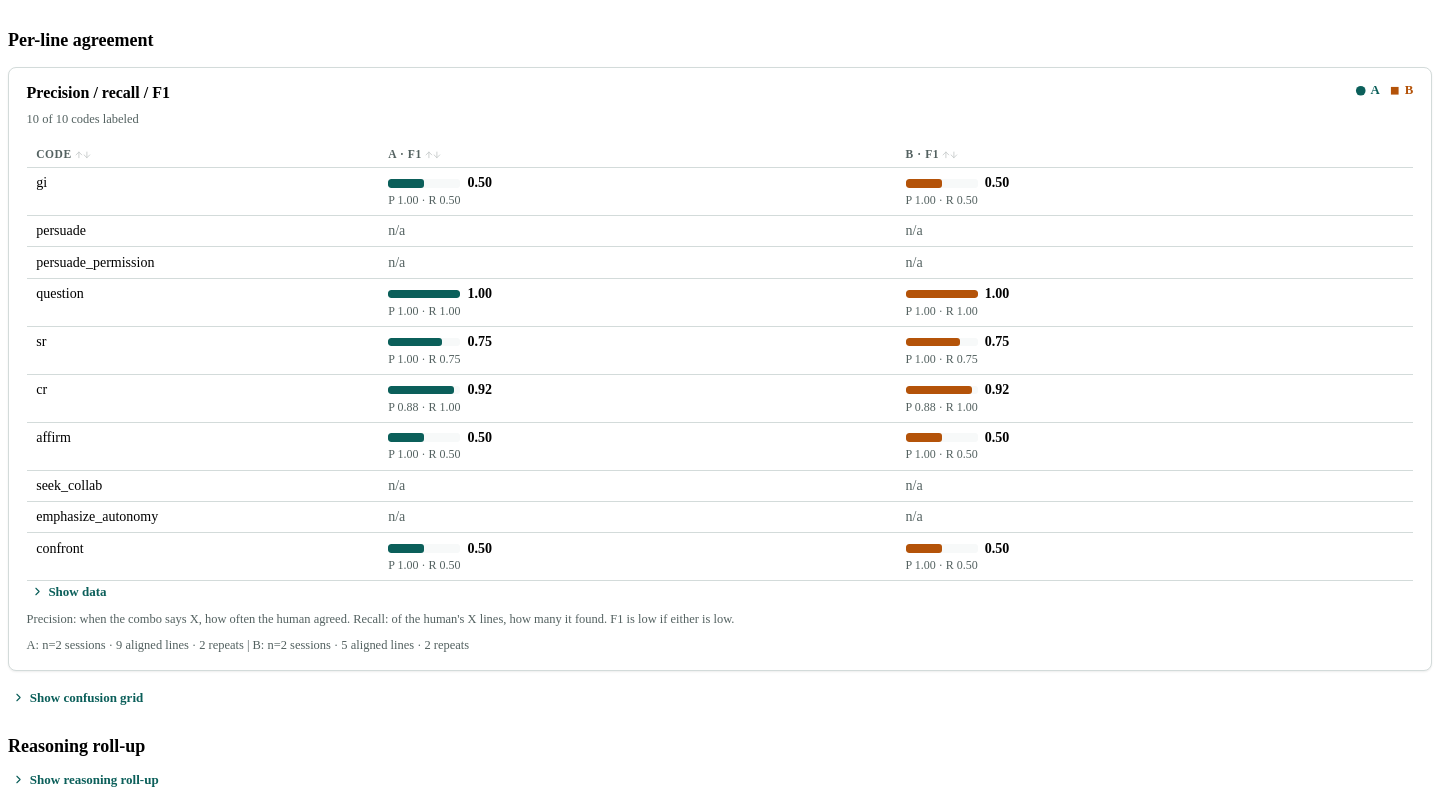
Test: switches displayed confusion data and links the multi bucket with exact filters
The width and height of the screenshot is (1440, 798).
Later steps or results of the test are not shown.
(page scrolled)
Step 1. Click the button "Show confusion grid" → (78, 698), box [8,688,147,708]
(page scrolled)
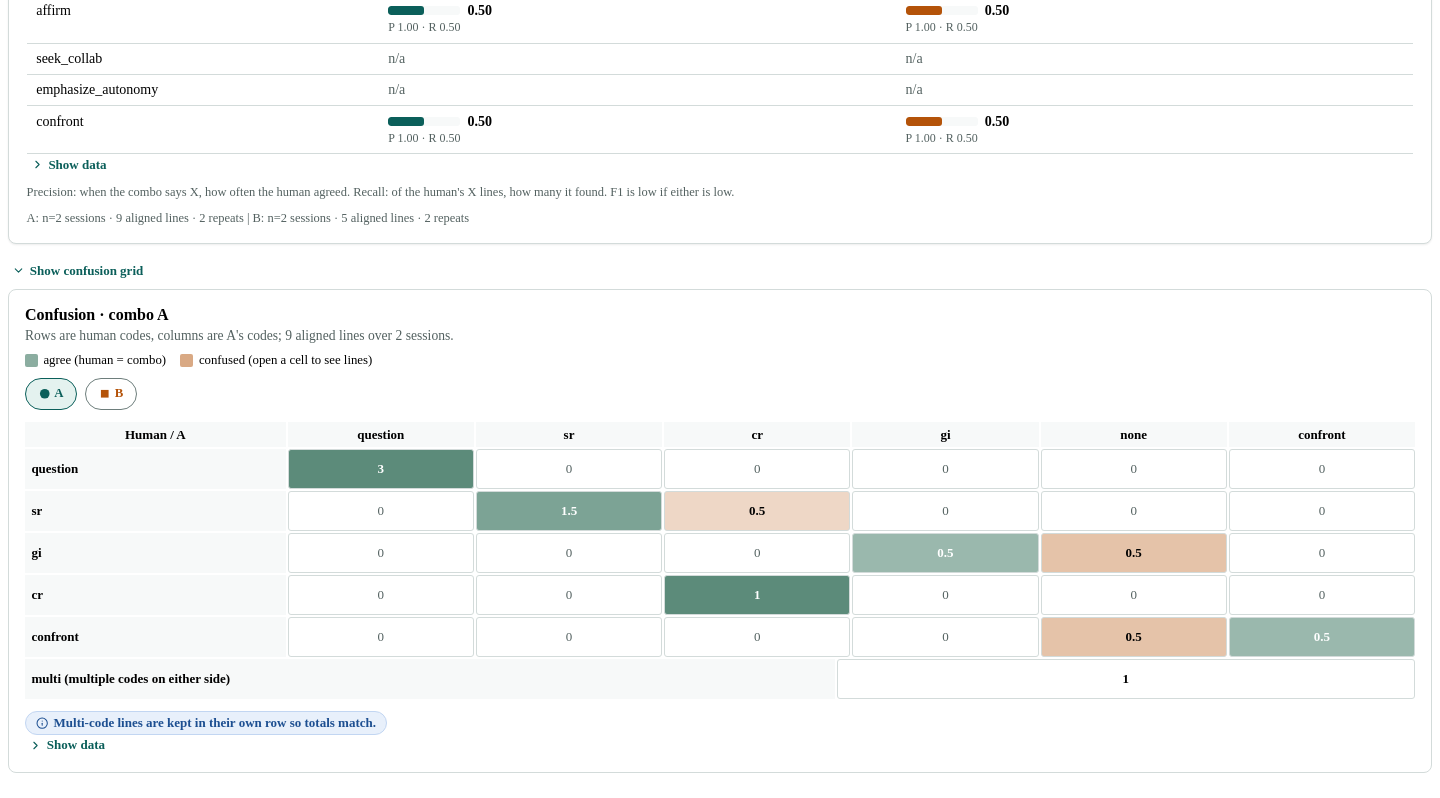
Step 2. Click the button named "Combo B" → (111, 394), box [85,378,137,410]
(page scrolled)
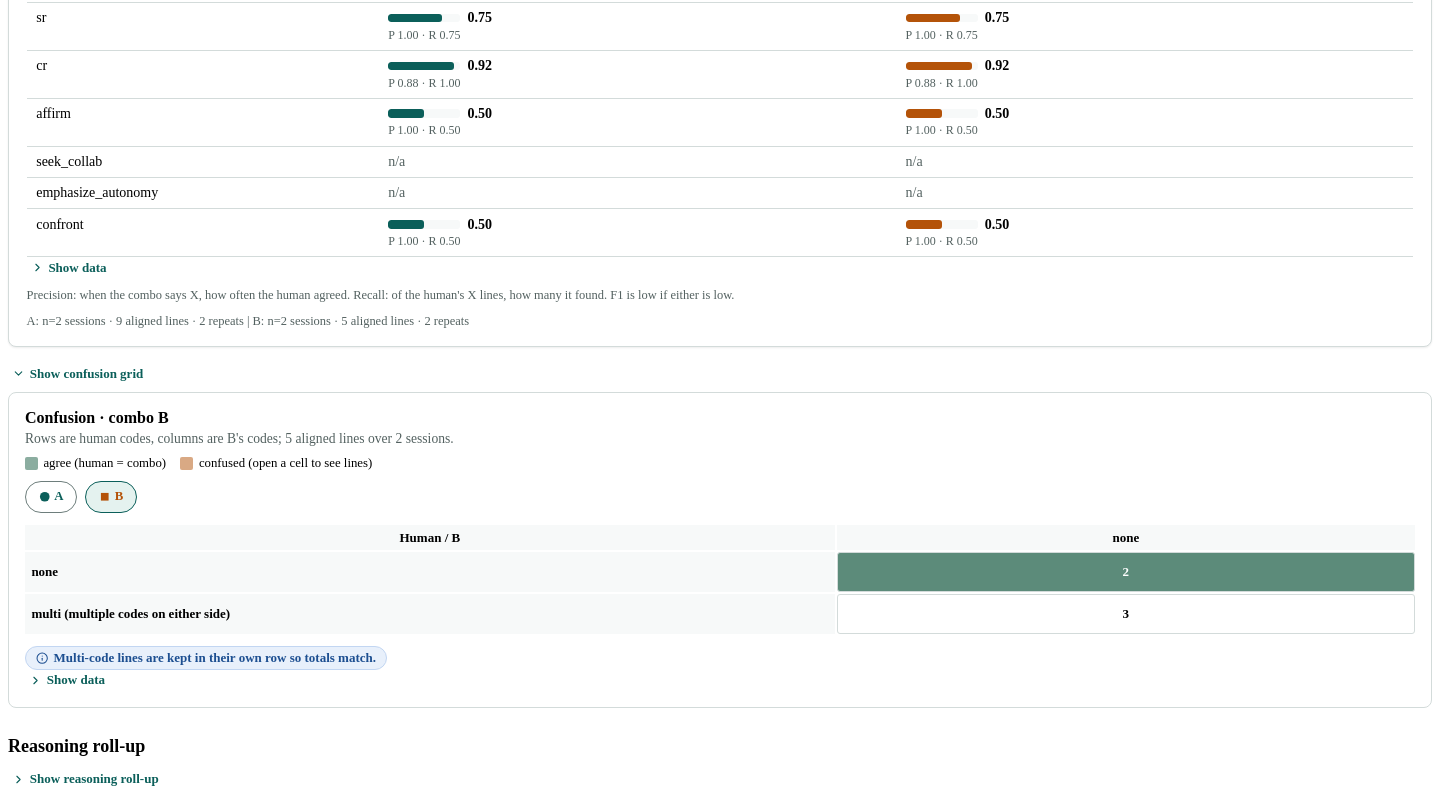
Now the button named "Human none, B none: 2" is shown, box [837,552,1415,592]
